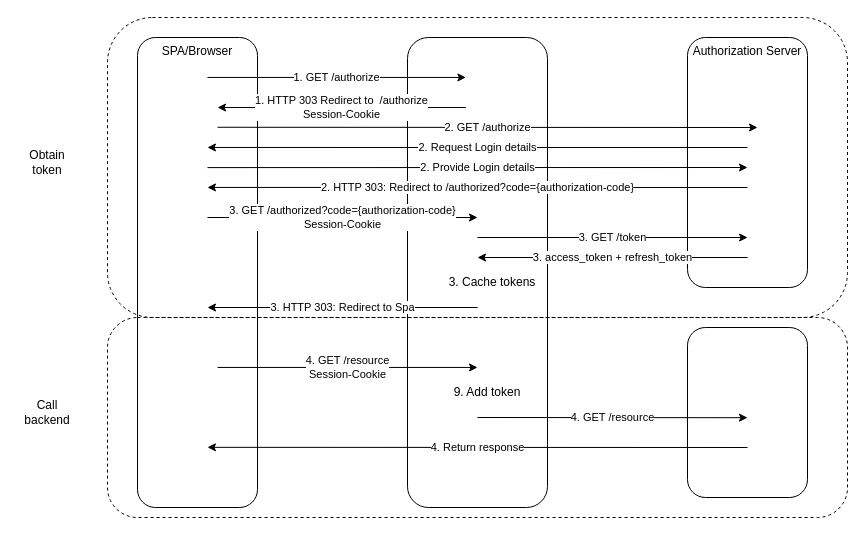
Image size: 865x535. Some labels were removed from this diagram. Here are the shapes that lost their labels. From the top down, the box of each, then its label:
(406, 36, 548, 508): BFF Proxy
(686, 326, 808, 498): Api Backend
